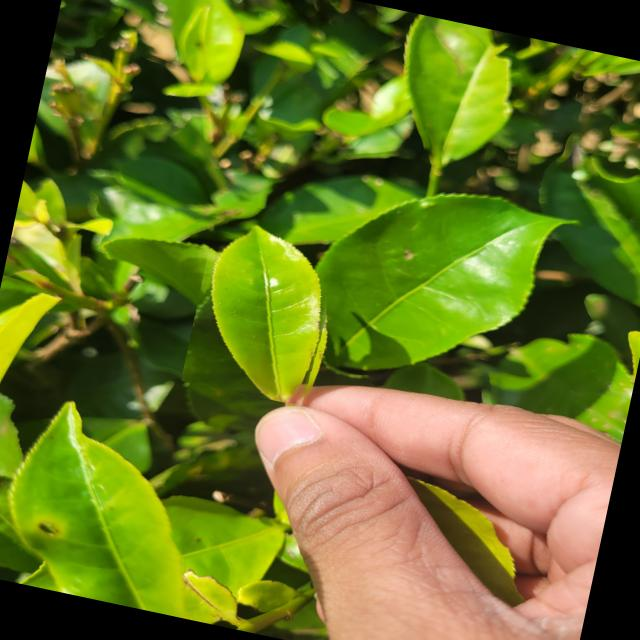Catagory A(1-2 days): (180, 190, 353, 408)
